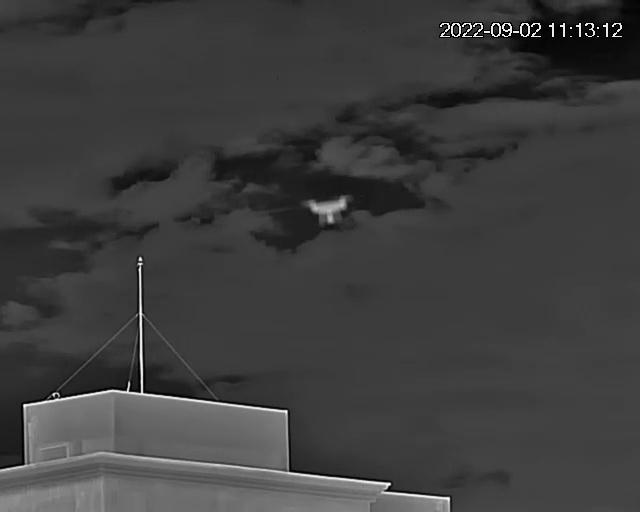DJI-Phantom: (300, 197, 359, 229)
